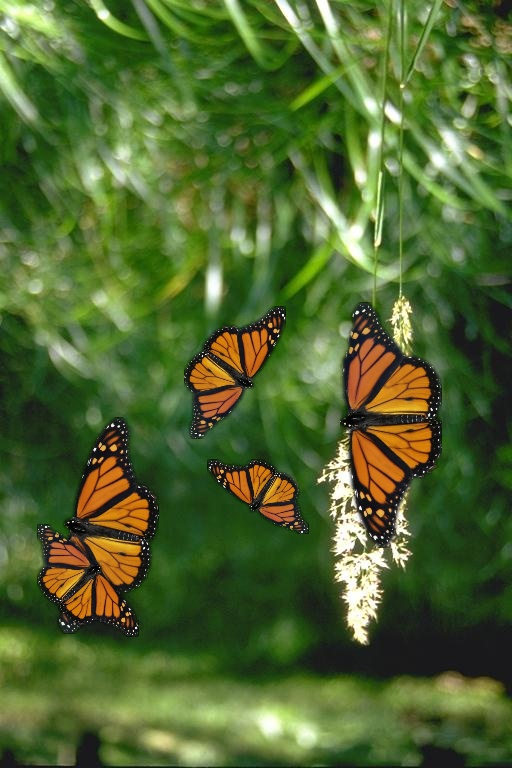danaus_plexippus: (340, 302, 442, 543), (57, 417, 159, 634), (184, 306, 286, 439), (37, 524, 139, 637), (207, 459, 309, 534)
